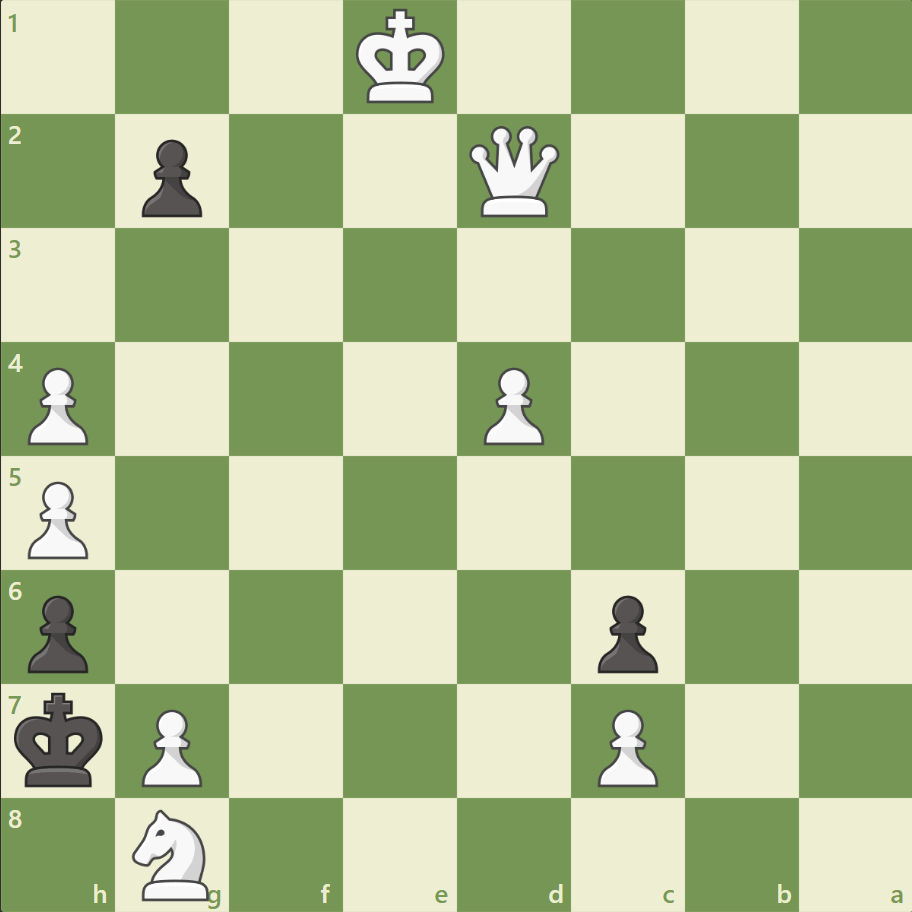K: (351, 4, 451, 112)
N: (124, 802, 222, 904)
P: (133, 700, 208, 791), (20, 473, 95, 564), (474, 359, 549, 450), (20, 359, 95, 450), (588, 700, 662, 791)
Q: (464, 122, 563, 222)
k: (11, 685, 111, 793)
p: (20, 586, 95, 677), (133, 132, 208, 223), (588, 586, 662, 677)
